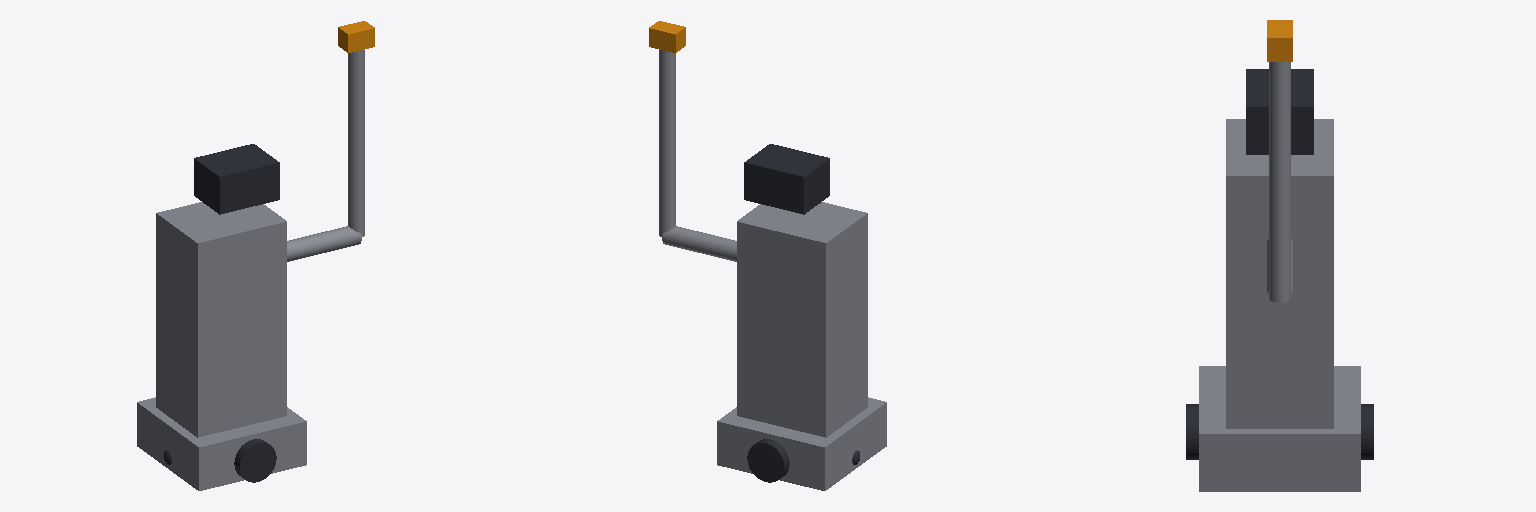
robot.urdf — fetch:
<?xml version="1.0"?>
<robot name="fetch">
  <material name="body"><color rgba="0.56 0.57 0.60 1"/></material>
  <material name="dark"><color rgba="0.22 0.23 0.26 1"/></material>
  <material name="accent"><color rgba="0.85 0.55 0.10 1"/></material>
  <link name="base_link">
    <visual><origin xyz="0 0 0.07"/><geometry><box size="0.36 0.36 0.14"/></geometry><material name="body"/></visual>
    <collision><origin xyz="0 0 0.07"/><geometry><box size="0.36 0.36 0.14"/></geometry></collision>
    <inertial><mass value="58"/><origin xyz="0 0 0.07"/><inertia ixx="1.2" ixy="0" ixz="0" iyy="1.2" iyz="0" izz="1.6"/></inertial>
  </link>
  <link name="wheel_l_link">
    <visual><origin rpy="1.5708 0 0"/><geometry><cylinder radius="0.062" length="0.030"/></geometry><material name="dark"/></visual>
    <collision><origin rpy="1.5708 0 0"/><geometry><cylinder radius="0.062" length="0.030"/></geometry></collision>
    <inertial><mass value="1.5"/><origin/><inertia ixx="0.005" ixy="0" ixz="0" iyy="0.005" iyz="0" izz="0.005"/></inertial>
  </link>
  <joint name="wheel_l_joint" type="continuous"><parent link="base_link"/><child link="wheel_l_link"/><origin xyz="0 0.195 0.062"/><axis xyz="0 1 0"/></joint>
  <link name="wheel_r_link">
    <visual><origin rpy="1.5708 0 0"/><geometry><cylinder radius="0.062" length="0.030"/></geometry><material name="dark"/></visual>
    <collision><origin rpy="1.5708 0 0"/><geometry><cylinder radius="0.062" length="0.030"/></geometry></collision>
    <inertial><mass value="1.5"/><origin/><inertia ixx="0.005" ixy="0" ixz="0" iyy="0.005" iyz="0" izz="0.005"/></inertial>
  </link>
  <joint name="wheel_r_joint" type="continuous"><parent link="base_link"/><child link="wheel_r_link"/><origin xyz="0 -0.195 0.062"/><axis xyz="0 1 0"/></joint>
  <link name="caster_link">
    <visual><origin xyz="0 0 0.03"/><geometry><sphere radius="0.03"/></geometry><material name="dark"/></visual>
    <collision><origin xyz="0 0 0.03"/><geometry><sphere radius="0.03"/></geometry></collision>
    <inertial><mass value="0.5"/><origin/><inertia ixx="0.001" ixy="0" ixz="0" iyy="0.001" iyz="0" izz="0.001"/></inertial>
  </link>
  <joint name="caster_joint" type="fixed"><parent link="base_link"/><child link="caster_link"/><origin xyz="-0.16 0 0.005"/></joint>
  <link name="torso_link">
    <visual><origin xyz="0 0 0.31"/><geometry><box size="0.30 0.24 0.62"/></geometry><material name="body"/></visual>
    <collision><origin xyz="0 0 0.31"/><geometry><box size="0.30 0.24 0.62"/></geometry></collision>
    <inertial><mass value="40"/><origin xyz="0 0 0.31"/><inertia ixx="1.4" ixy="0" ixz="0" iyy="1.4" iyz="0" izz="0.8"/></inertial>
  </link>
  <joint name="torso_joint" type="fixed"><parent link="base_link"/><child link="torso_link"/><origin xyz="0 0 0.14"/></joint>
  <link name="head_link">
    <visual><origin xyz="0 0 0.07"/><geometry><box size="0.20 0.15 0.12"/></geometry><material name="dark"/></visual>
    <collision><origin xyz="0 0 0.07"/><geometry><box size="0.20 0.15 0.12"/></geometry></collision>
    <inertial><mass value="3"/><origin xyz="0 0 0.07"/><inertia ixx="0.01" ixy="0" ixz="0" iyy="0.01" iyz="0" izz="0.01"/></inertial>
  </link>
  <joint name="head_joint" type="fixed"><parent link="torso_link"/><child link="head_link"/><origin xyz="0.05 0 0.66"/></joint>
  <link name="upperarm_link">
    <visual><origin xyz="0.14 0 0" rpy="0 1.5708 0"/><geometry><cylinder radius="0.030" length="0.28"/></geometry><material name="body"/></visual>
    <collision><origin xyz="0.14 0 0" rpy="0 1.5708 0"/><geometry><cylinder radius="0.030" length="0.28"/></geometry></collision>
    <inertial><mass value="2.5"/><origin xyz="0.14 0 0"/><inertia ixx="0.02" ixy="0" ixz="0" iyy="0.02" iyz="0" izz="0.02"/></inertial>
  </link>
  <joint name="shoulder_joint" type="fixed"><parent link="torso_link"/><child link="upperarm_link"/><origin xyz="0.17 0 0.46"/></joint>
  <link name="forearm_link">
    <visual><origin xyz="0 0 0.30"/><geometry><cylinder radius="0.025" length="0.60"/></geometry><material name="body"/></visual>
    <collision><origin xyz="0 0 0.30"/><geometry><cylinder radius="0.025" length="0.60"/></geometry></collision>
    <inertial><mass value="2.0"/><origin xyz="0 0 0.30"/><inertia ixx="0.06" ixy="0" ixz="0" iyy="0.06" iyz="0" izz="0.01"/></inertial>
  </link>
  <joint name="elbow_joint" type="fixed"><parent link="upperarm_link"/><child link="forearm_link"/><origin xyz="0.28 0 0"/></joint>
  <link name="gripper_link">
    <visual><origin xyz="0 0 0.03"/><geometry><box size="0.09 0.06 0.06"/></geometry><material name="accent"/></visual>
    <collision><origin xyz="0 0 0.03"/><geometry><box size="0.09 0.06 0.06"/></geometry></collision>
    <inertial><mass value="0.8"/><origin xyz="0 0 0.03"/><inertia ixx="0.002" ixy="0" ixz="0" iyy="0.002" iyz="0" izz="0.002"/></inertial>
  </link>
  <joint name="wrist_joint" type="fixed"><parent link="forearm_link"/><child link="gripper_link"/><origin xyz="0 0 0.60"/></joint>
</robot>

--- Render facts (derived) ---
The picture shows the robot from 3 angles, left to right: view 1: azimuth 30°, elevation 25°; view 2: azimuth 150°, elevation 25°; view 3: azimuth 270°, elevation 25°; orthographic projection.
Robot: fetch — 9 links, 8 joints (2 continuous, 6 fixed); root link base_link; default pose: all joints at 0.
Visible links, largest first — view 1: torso_link, base_link, head_link, forearm_link, upperarm_link, wheel_r_link, gripper_link; view 2: torso_link, base_link, head_link, forearm_link, upperarm_link, wheel_l_link, gripper_link; view 3: torso_link, base_link, forearm_link, head_link, gripper_link, wheel_l_link, wheel_r_link.
Boxes of the visible links, box(x1,y1,x2,y2) form: torso_link: box(156, 202, 286, 437); base_link: box(137, 397, 306, 490); head_link: box(194, 144, 279, 214); forearm_link: box(348, 50, 364, 236); upperarm_link: box(287, 226, 361, 261); wheel_r_link: box(234, 439, 276, 482); gripper_link: box(338, 21, 374, 52); torso_link: box(737, 202, 867, 437); base_link: box(717, 397, 886, 490); head_link: box(744, 144, 829, 214); forearm_link: box(659, 50, 675, 236); upperarm_link: box(662, 226, 736, 261); wheel_l_link: box(747, 439, 789, 482); gripper_link: box(649, 21, 685, 52); torso_link: box(1226, 119, 1333, 428); base_link: box(1199, 366, 1360, 491); forearm_link: box(1269, 62, 1290, 302); head_link: box(1246, 69, 1313, 154); gripper_link: box(1267, 20, 1292, 61); wheel_l_link: box(1361, 404, 1373, 459); wheel_r_link: box(1186, 404, 1198, 459).
Bounding box of the posed robot: 0.685 × 0.42 × 1.26 m (x, y, z).
Geometry: primitives only (box / cylinder / sphere), no mesh files.
